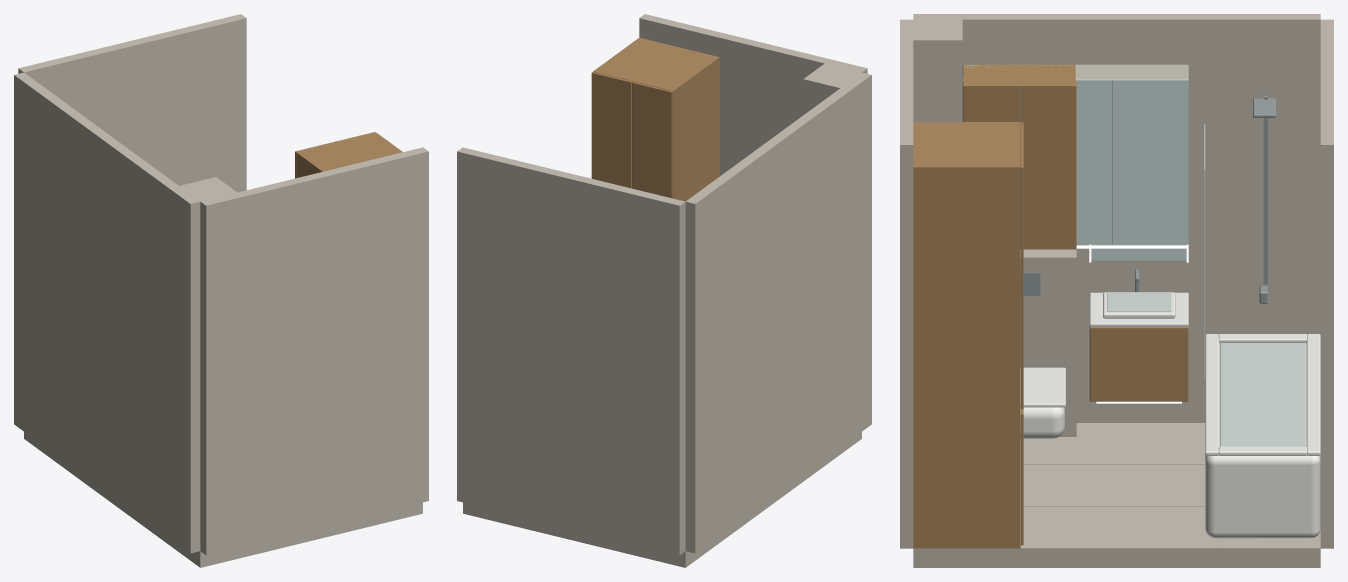
The model's file is a-compositions.glb.
The picture shows the model from 3 angles, left to right: view 1: azimuth 30°, elevation 25°; view 2: azimuth 150°, elevation 25°; view 3: azimuth 270°, elevation 25°; orthographic projection. The views are drawn at different scales.
Visible parts, largest first — view 1: A1-wall-south-3, A1-wall-west-1, A1-wall-north-2, A1-floor-0, A3-tower-shelf-119, A1-service-shaft-14; view 2: A1-wall-north-2, A1-wall-west-1, A1-wall-south-3, A3-tower-door-upper-121, A3-tower-door-upper-123, A1-floor-0, A3-tower-side-116, A3-tower-shelf-119, A1-upper-cabinet-31, A1-service-shaft-14; view 3: A1-wall-west-1, A3-tower-side-117, A1-floor-0, A2-wide-mirror-73, A1-upper-cabinet-29, A1-tub-body-4, A1-tub-basin-5, A1-upper-cabinet-31, A1-vanity-19, A1-wall-north-2, A1-wall-south-3, A1-WC-frame-15 (+15 smaller).
Boxes of the visible parts, x1,y1,x2,y2 form: A1-wall-south-3: (200,147,428,555); A1-wall-west-1: (14,72,200,553); A1-wall-north-2: (18,14,246,192); A1-floor-0: (24,432,422,567); A3-tower-shelf-119: (299,133,400,170); A1-service-shaft-14: (179,177,236,201); A1-wall-north-2: (457,147,685,555); A1-wall-west-1: (685,72,871,553); A1-wall-south-3: (639,14,867,176); A3-tower-door-upper-121: (632,81,672,198); A3-tower-door-upper-123: (591,72,632,188); A1-floor-0: (463,432,861,567); A3-tower-side-116: (671,56,719,201); A3-tower-shelf-119: (595,38,716,90); A1-upper-cabinet-31: (698,78,719,191); A1-service-shaft-14: (803,63,861,114); A1-wall-west-1: (913,14,1320,422); A3-tower-side-117: (913,166,1020,548); A1-floor-0: (913,423,1320,567); A2-wide-mirror-73: (962,79,1188,244); A1-upper-cabinet-29: (962,64,1076,249); A1-tub-body-4: (1205,343,1320,538); A1-tub-basin-5: (1220,343,1305,446); A1-upper-cabinet-31: (914,190,961,353); A1-vanity-19: (1089,326,1188,401); A1-wall-north-2: (1320,19,1333,548); A1-wall-south-3: (900,19,913,548); A1-WC-frame-15: (1020,249,1076,436).
Bounding box in the file's own units: 1.88 × 2.83 × 2.63.
